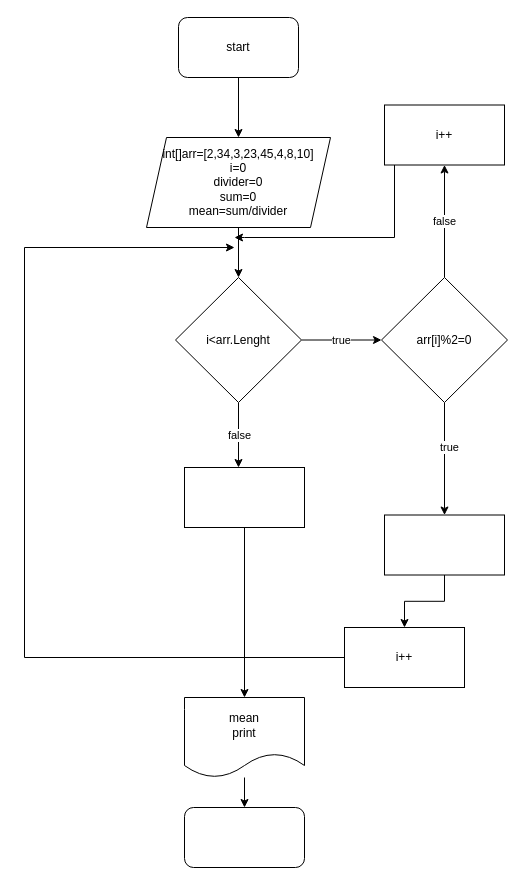
Image size: 525x885. Some labels were removed from this diagram. Each missing label, with the centre of its shape:
divider++ sum+=arr[i]: the point at 444,544
end: the point at 244,837
sum/divider: the point at 244,497
